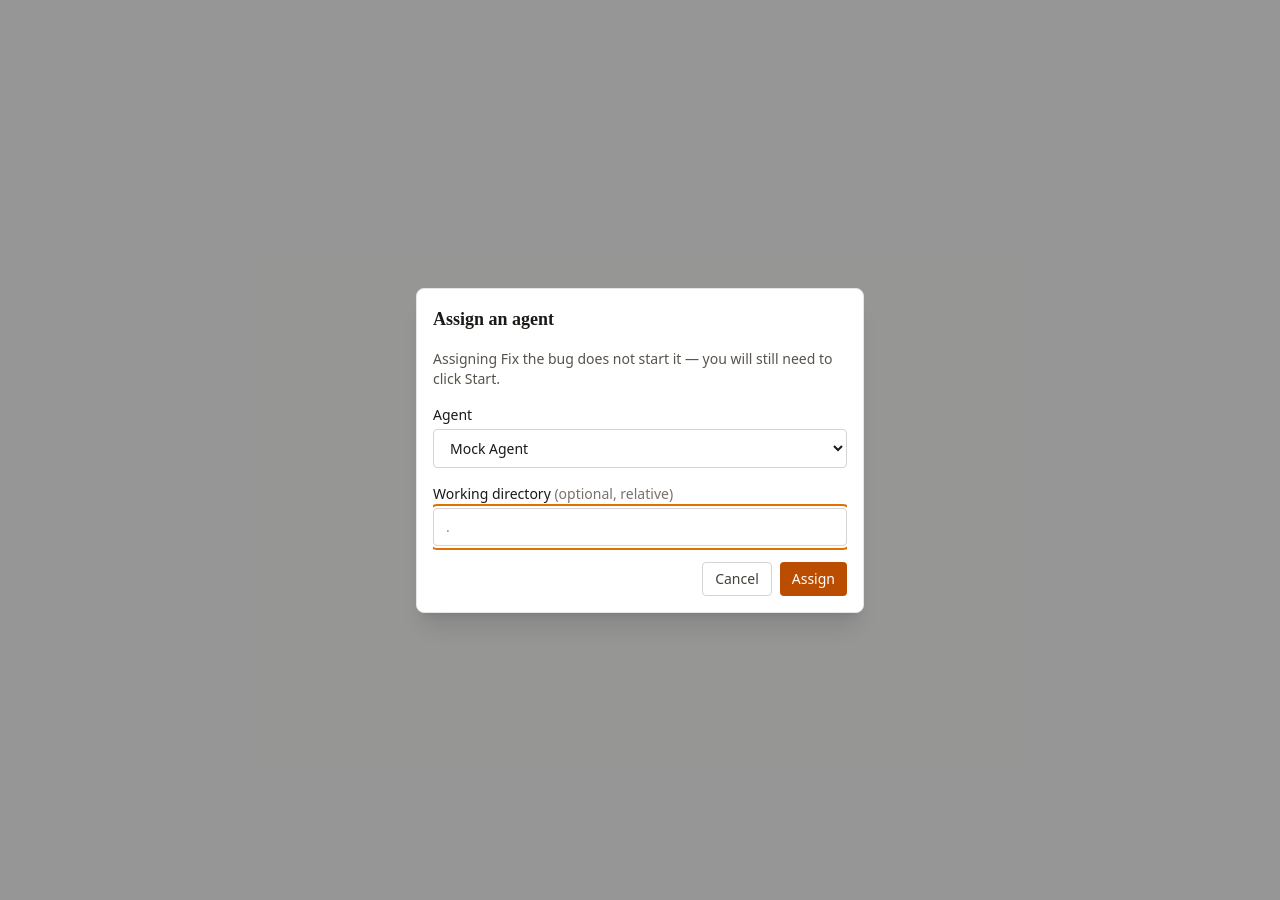
Test: AssignDialog › rejects an absolute working directory before submitting
In the field labelled "Working directory (optional, relative)": (640, 526) x1=433 y1=508 x2=847 y2=546, type "C:\\absolute\\path"
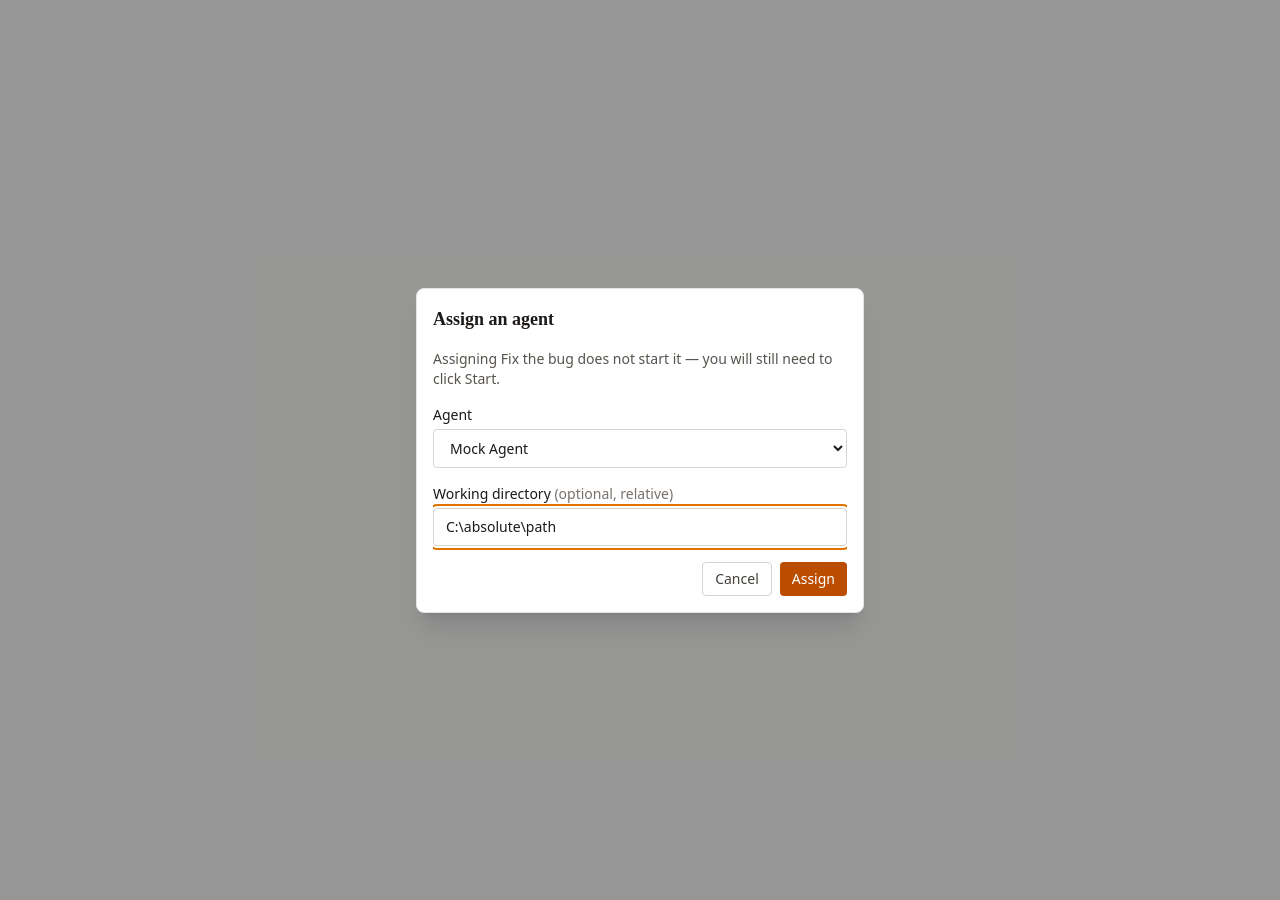
Click the button "Assign": (813, 578) x1=780 y1=562 x2=847 y2=596
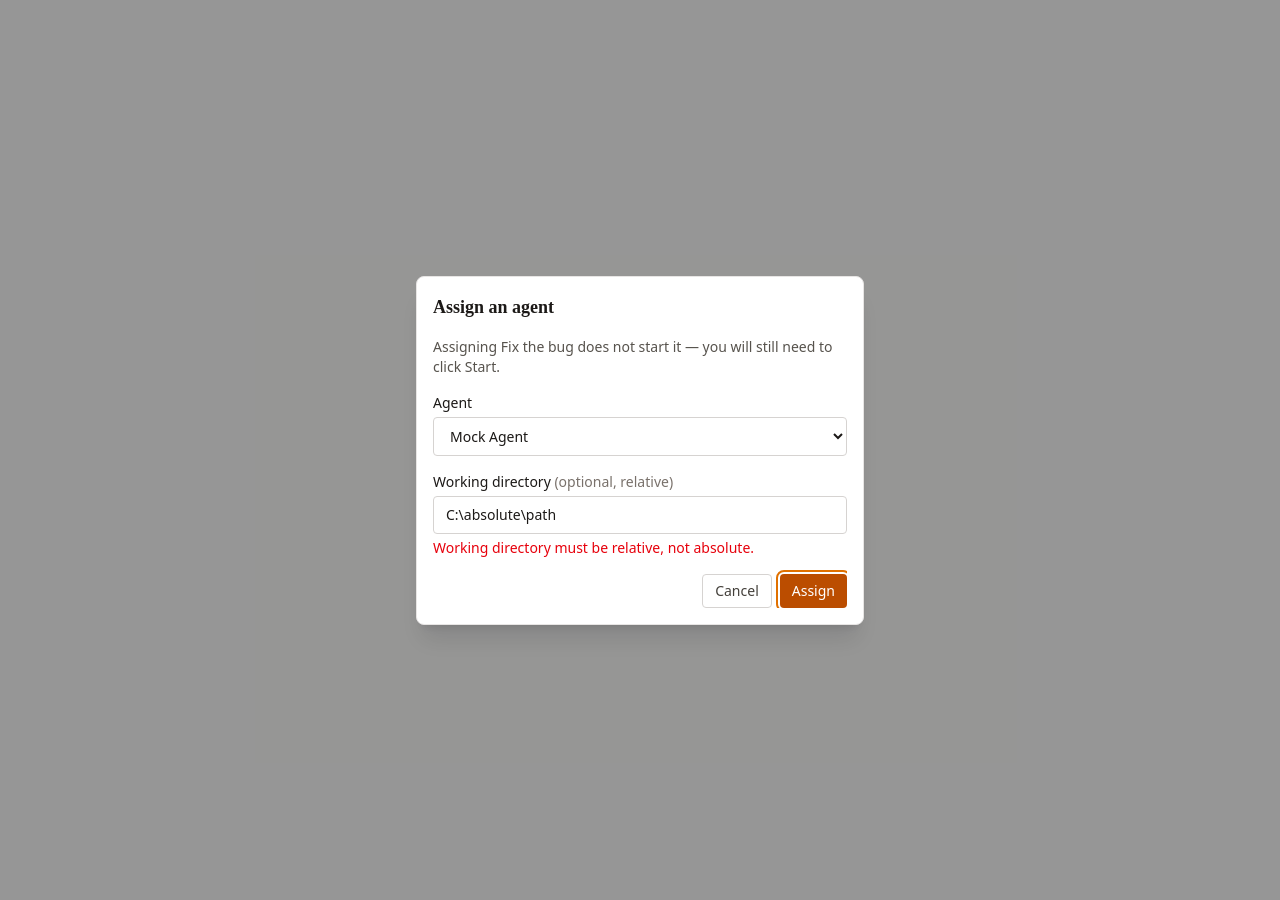
Now the text "Working directory must be relative, not absolute." is shown, box x1=433 y1=538 x2=754 y2=556
